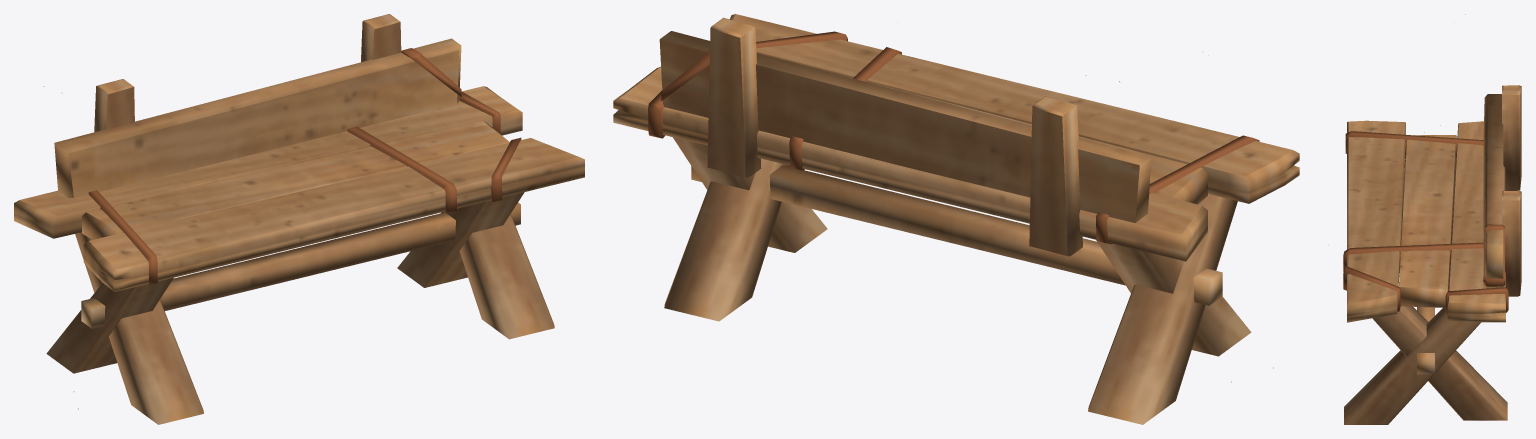
Rendered from EnchantingTableMesh.obj.
3 renders of one model, left to right at view 1: azimuth 30°, elevation 25°; view 2: azimuth 150°, elevation 25°; view 3: azimuth 270°, elevation 25°, orthographic. The views are drawn at different scales.
Parts seen in each view (by area): view 1: EnchantingTableMesh; view 2: EnchantingTableMesh; view 3: EnchantingTableMesh.
Boxes of the visible parts, x1,y1,x2,y2 form: EnchantingTableMesh: (14,14,584,424); EnchantingTableMesh: (613,14,1299,424); EnchantingTableMesh: (1343,14,1521,424).
Size of the model in its own units: 3.05 by 1.79 by 1.32.
